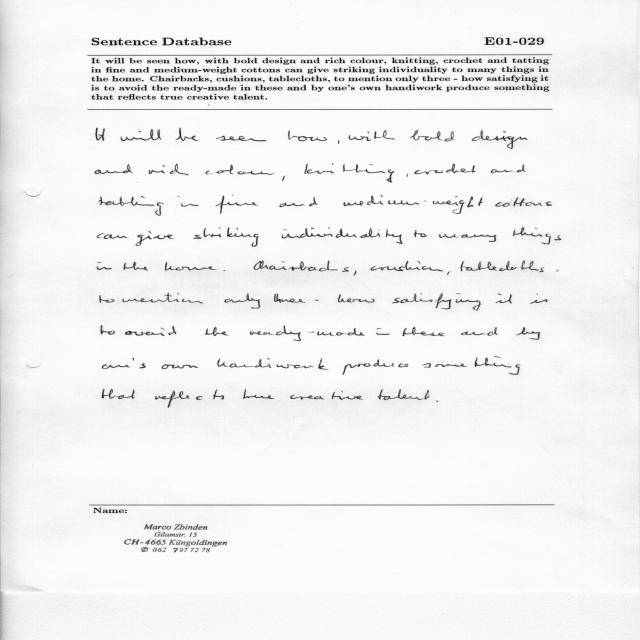word: (344, 195, 483, 214), (282, 227, 403, 244), (422, 356, 520, 375), (305, 164, 395, 183), (250, 326, 364, 341), (392, 293, 481, 311), (217, 358, 329, 370), (155, 389, 224, 408), (99, 196, 164, 216), (193, 228, 259, 247), (254, 260, 349, 272), (472, 130, 528, 149), (343, 359, 408, 375), (461, 261, 544, 273), (513, 228, 561, 245), (122, 293, 203, 303), (216, 195, 258, 214), (205, 164, 274, 175), (371, 261, 444, 271), (290, 391, 363, 400), (415, 164, 476, 174), (495, 197, 552, 207), (136, 231, 174, 246), (378, 389, 429, 400), (224, 294, 260, 309), (410, 130, 454, 142), (125, 326, 176, 336), (349, 130, 395, 141), (102, 358, 146, 369), (121, 129, 161, 141), (165, 262, 216, 271), (439, 234, 496, 242), (149, 164, 189, 175), (288, 131, 327, 141), (279, 197, 318, 207), (402, 327, 445, 336), (95, 164, 132, 174), (338, 294, 375, 303), (461, 327, 498, 336), (102, 389, 135, 399), (517, 327, 541, 340), (243, 389, 274, 399), (216, 136, 267, 142), (491, 165, 525, 174), (274, 294, 306, 303), (176, 128, 198, 141), (178, 196, 199, 207), (124, 262, 149, 271), (206, 327, 229, 336), (530, 293, 548, 304), (495, 293, 512, 304), (97, 233, 128, 239), (162, 364, 198, 369), (101, 326, 115, 335), (97, 262, 112, 270), (96, 128, 105, 141), (100, 295, 114, 303), (376, 328, 390, 335), (414, 230, 427, 237), (353, 271, 357, 276), (282, 176, 285, 181), (447, 271, 450, 275), (407, 173, 409, 177), (338, 140, 339, 144), (315, 300, 319, 301), (436, 400, 438, 402), (557, 270, 559, 271), (224, 270, 225, 271)
